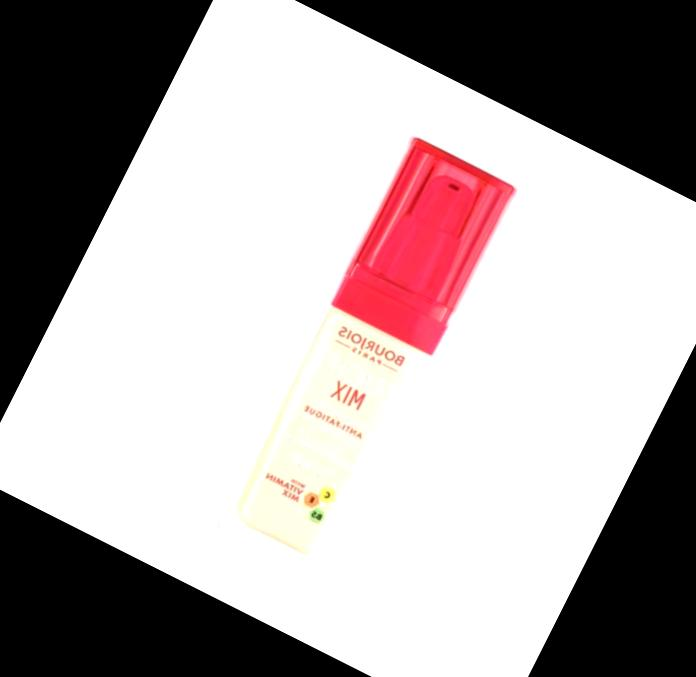cosmetic: (203, 133, 522, 595)
